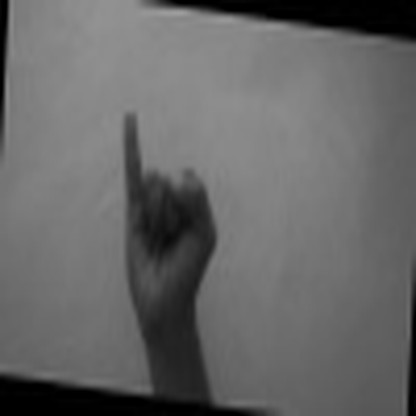i: (107, 91, 220, 316)
